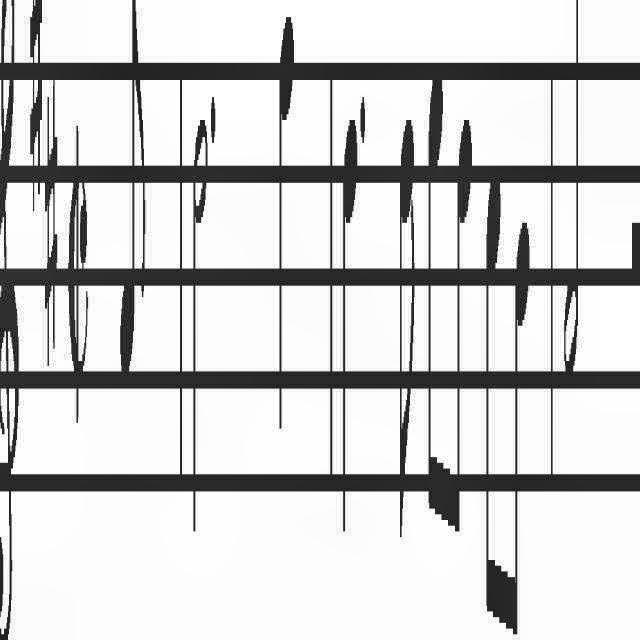Bass-clef: (1, 0, 20, 640)
Diez: (46, 69, 59, 365), (28, 0, 44, 216)
Eighth-note: (118, 0, 146, 394), (448, 100, 472, 552), (504, 211, 529, 640), (484, 152, 504, 634), (427, 57, 445, 530), (397, 100, 415, 564)
Half-note: (191, 101, 209, 543), (564, 1, 580, 383)
Quarter-note: (276, 6, 296, 438), (342, 107, 358, 545)
